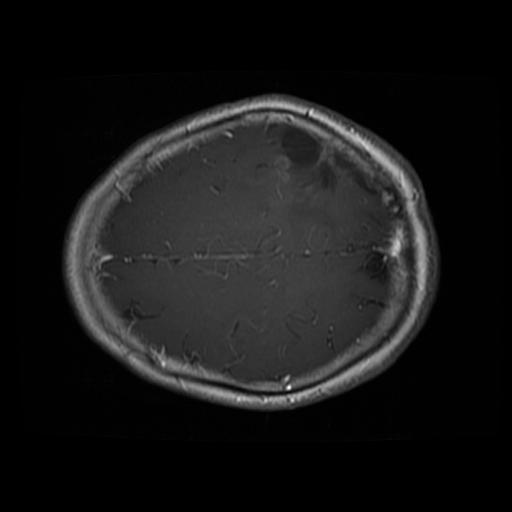glioma: (281, 126, 391, 249)
